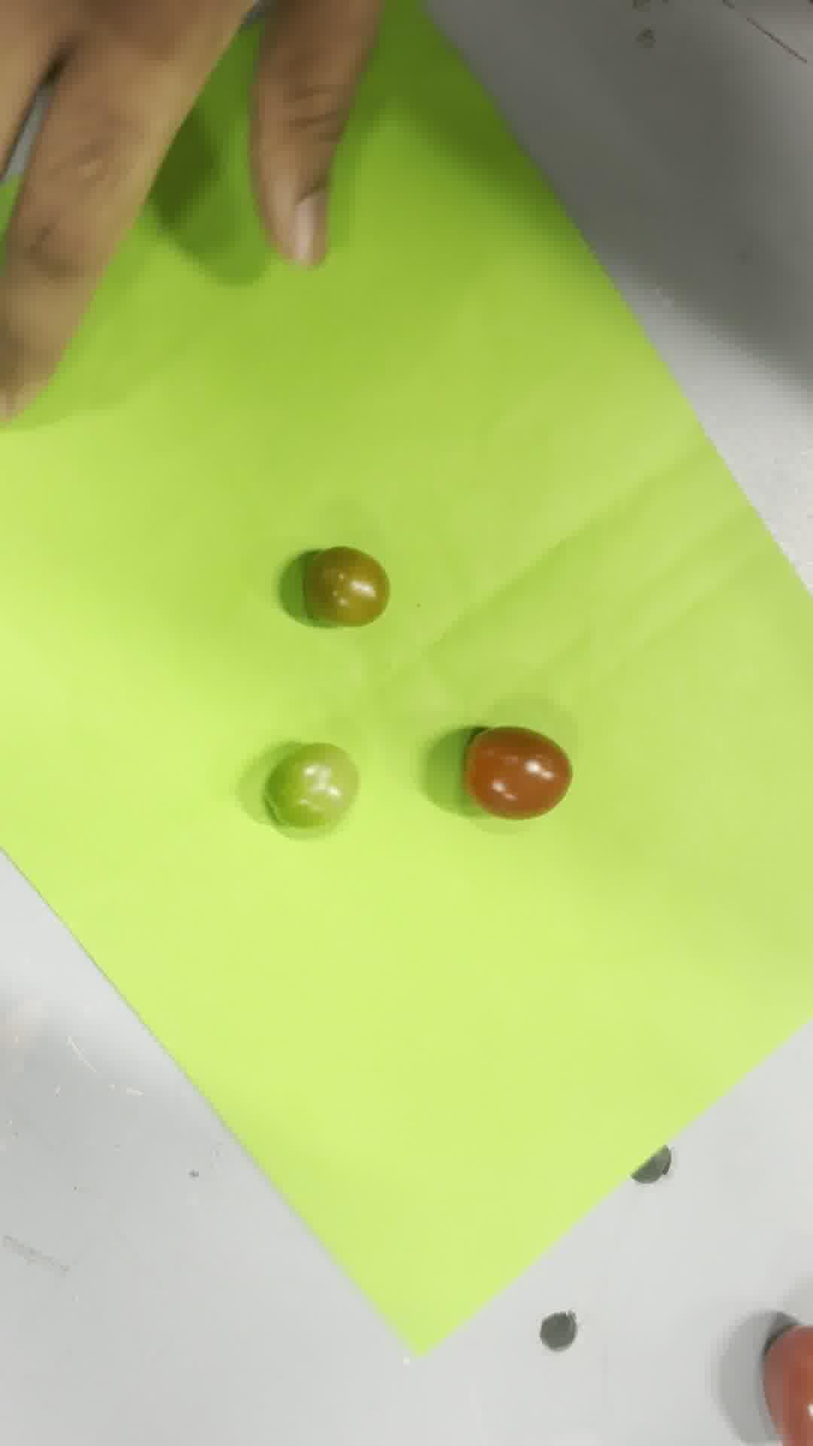green_cherry_tomato: (266, 743, 358, 828)
red_cherry_tomato: (464, 727, 571, 819)
yellow_cherry_tomato: (303, 546, 389, 626)
